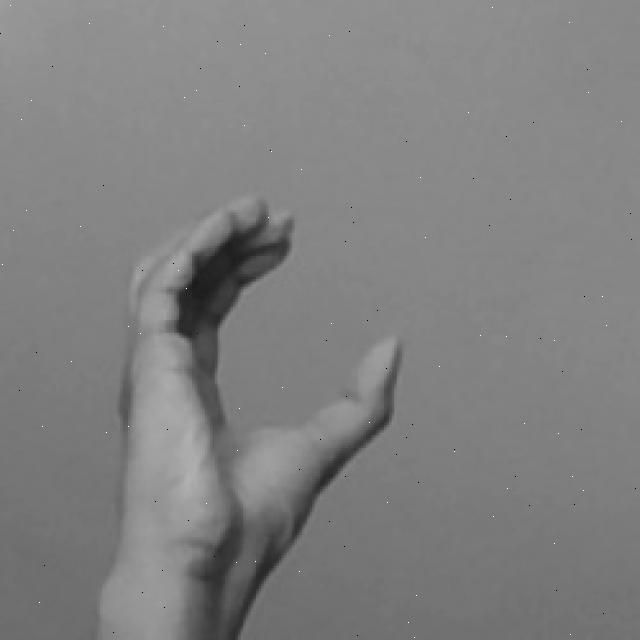C: (103, 197, 404, 640)
